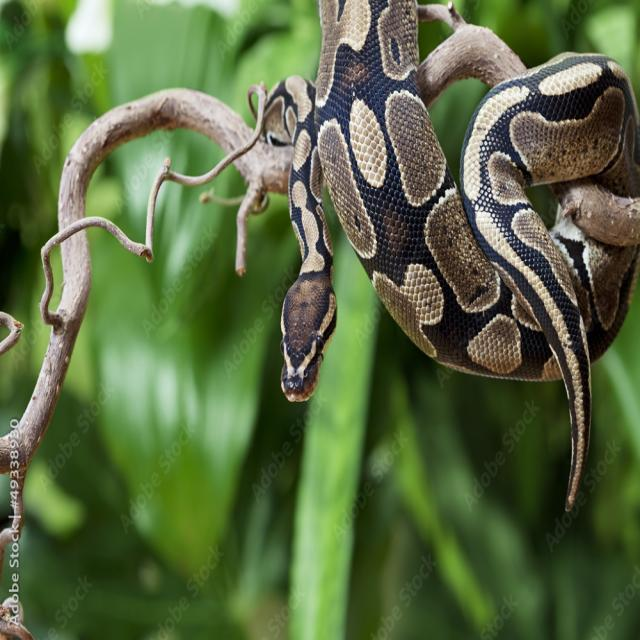Snake: (204, 0, 639, 489)
